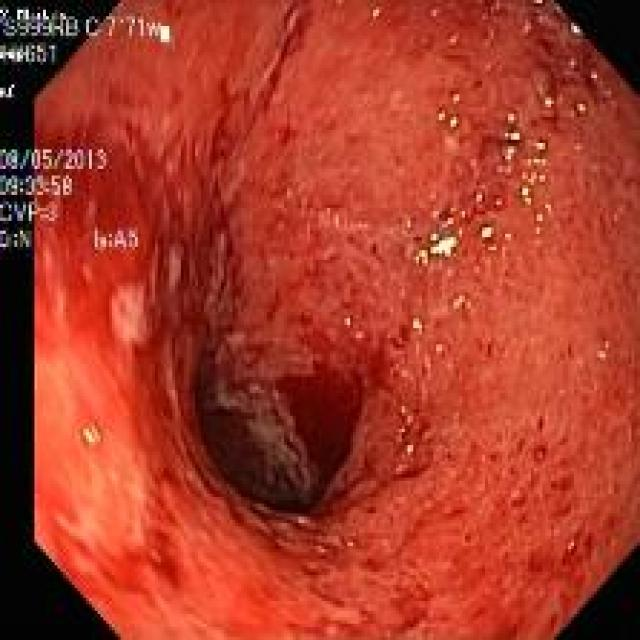ulcerative-colitis-grade-3: (35, 3, 640, 639)
